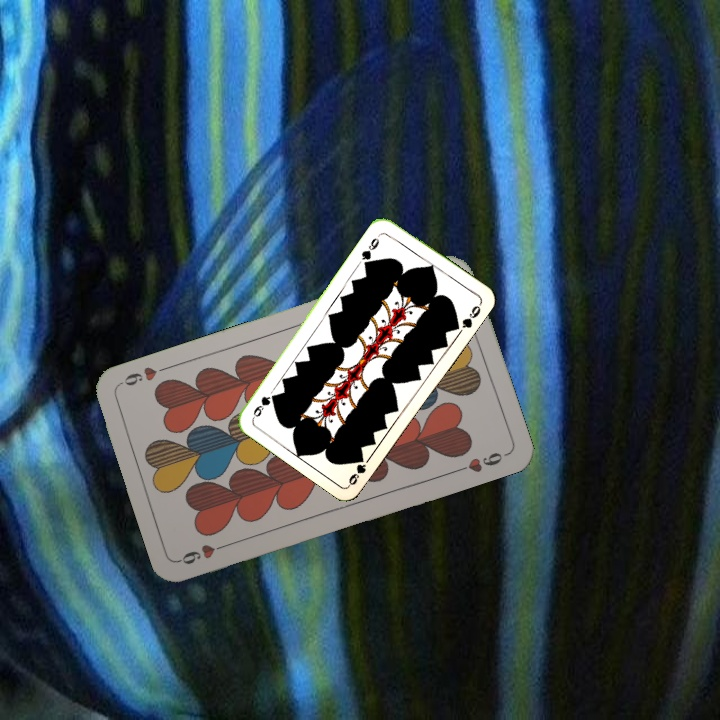G9: (357, 229, 384, 267), (344, 454, 369, 488)
H9: (176, 538, 233, 567)
